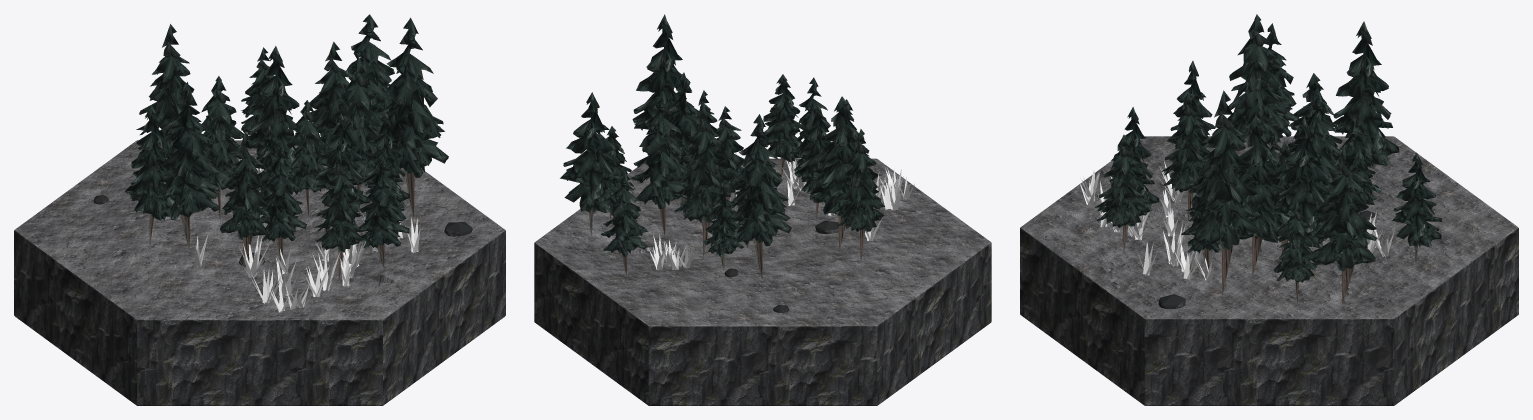
Rendered from forest.glb.
The picture shows the model from 3 angles, left to right: view 1: azimuth 30°, elevation 25°; view 2: azimuth 150°, elevation 25°; view 3: azimuth 270°, elevation 25°; orthographic projection. The views are drawn at different scales.
Visible parts, largest first — view 1: Plains tile.005, Tree Plains tile.001 16.001, Tree Plains tile.001 20.001, Tree Plains tile.001 5.001, Tree Plains tile.001 9.001, Tree Plains tile.001 13.001, Tree Plains tile.001 2.001, Tree Plains tile.001 1.001, Tree Plains tile.001 8.001, Tree Plains tile.001 17.001, Tree Plains tile.001 15.001, Tree Plains tile.001 11.001 (+7 smaller); view 2: Plains tile.005, Tree Plains tile.001 17.001, Tree Plains tile.001 6.001, Tree Plains tile.001 3.001, Tree Plains tile.001 5.001, Tree Plains tile.001 20.001, Tree Plains tile.001 9.001, Tree Plains tile.001 16.001, Tree Plains tile.001 1.001, Tree Plains tile.001 19.001, Tree Plains tile.001 14.001, Tree Plains tile.001 8.001 (+5 smaller); view 3: Plains tile.005, Tree Plains tile.001 16.001, Tree Plains tile.001 6.001, Tree Plains tile.001 17.001, Tree Plains tile.001 20.001, Tree Plains tile.001 8.001, Tree Plains tile.001 3.001, Tree Plains tile.001 1.001, Tree Plains tile.001 19.001, Tree Plains tile.001 15.001, Tree Plains tile.001 18.001, Tree Plains tile.001 5.001 (+7 smaller).
Part boxes in pixels (bbox=[...]): Plains tile.005: bbox=[14, 140, 505, 405]; Tree Plains tile.001 16.001: bbox=[372, 17, 448, 218]; Tree Plains tile.001 20.001: bbox=[155, 82, 219, 247]; Tree Plains tile.001 5.001: bbox=[247, 46, 299, 172]; Tree Plains tile.001 9.001: bbox=[124, 106, 174, 247]; Tree Plains tile.001 13.001: bbox=[220, 131, 270, 269]; Tree Plains tile.001 2.001: bbox=[201, 76, 248, 220]; Tree Plains tile.001 1.001: bbox=[355, 154, 409, 267]; Tree Plains tile.001 8.001: bbox=[325, 57, 383, 213]; Tree Plains tile.001 17.001: bbox=[136, 24, 199, 157]; Tree Plains tile.001 15.001: bbox=[258, 139, 306, 260]; Tree Plains tile.001 11.001: bbox=[314, 151, 363, 279]; Plains tile.005: bbox=[534, 152, 991, 405]; Tree Plains tile.001 17.001: bbox=[726, 114, 791, 279]; Tree Plains tile.001 6.001: bbox=[560, 92, 622, 236]; Tree Plains tile.001 3.001: bbox=[631, 90, 688, 236]; Tree Plains tile.001 5.001: bbox=[672, 103, 733, 256]; Tree Plains tile.001 20.001: bbox=[808, 96, 872, 251]; Tree Plains tile.001 9.001: bbox=[834, 129, 884, 261]; Tree Plains tile.001 16.001: bbox=[632, 14, 690, 152]; Tree Plains tile.001 1.001: bbox=[763, 74, 804, 178]; Tree Plains tile.001 19.001: bbox=[600, 171, 648, 274]; Tree Plains tile.001 14.001: bbox=[703, 182, 743, 269]; Tree Plains tile.001 8.001: bbox=[664, 72, 700, 211]; Plains tile.005: bbox=[1020, 136, 1518, 405]; Tree Plains tile.001 16.001: bbox=[1186, 90, 1260, 295]; Tree Plains tile.001 6.001: bbox=[1312, 145, 1376, 304]; Tree Plains tile.001 17.001: bbox=[1333, 21, 1399, 168]; Tree Plains tile.001 20.001: bbox=[1227, 14, 1292, 146]; Tree Plains tile.001 8.001: bbox=[1236, 115, 1289, 275]; Tree Plains tile.001 3.001: bbox=[1274, 117, 1331, 247]; Tree Plains tile.001 1.001: bbox=[1094, 134, 1150, 251]; Tree Plains tile.001 19.001: bbox=[1392, 153, 1442, 264]; Tree Plains tile.001 15.001: bbox=[1161, 92, 1208, 221]; Tree Plains tile.001 18.001: bbox=[1273, 201, 1317, 303]; Tree Plains tile.001 5.001: bbox=[1295, 87, 1341, 248].
Bounding box in the file's own units: 1.7 × 1.25 × 1.96.
4 materials, 3 textured.
